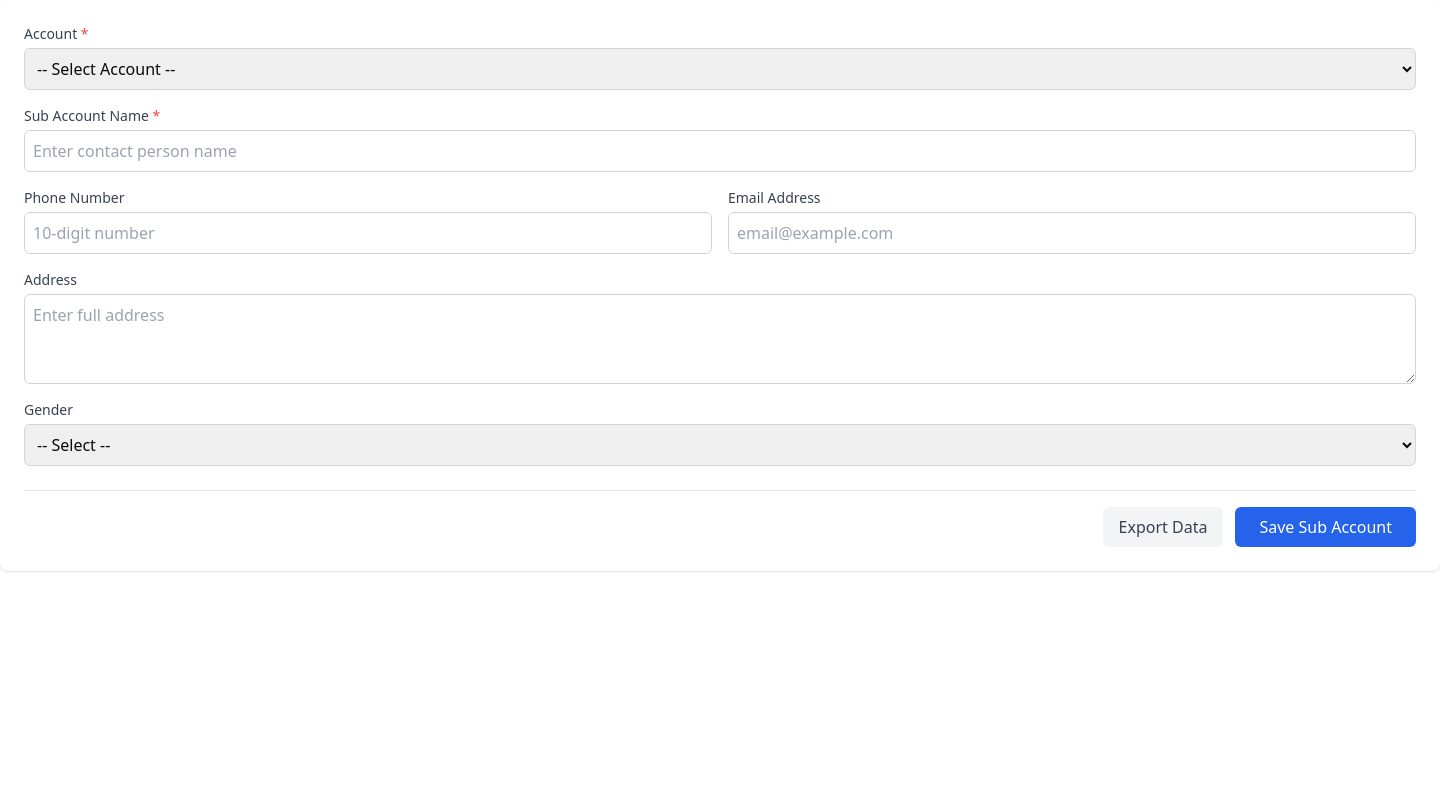
SubAccountForm › Form Submission › disables save button during submission
Select "Customer A" in the dropdown labelled "Account *" at (720, 69), box 24,48 -> 1416,90
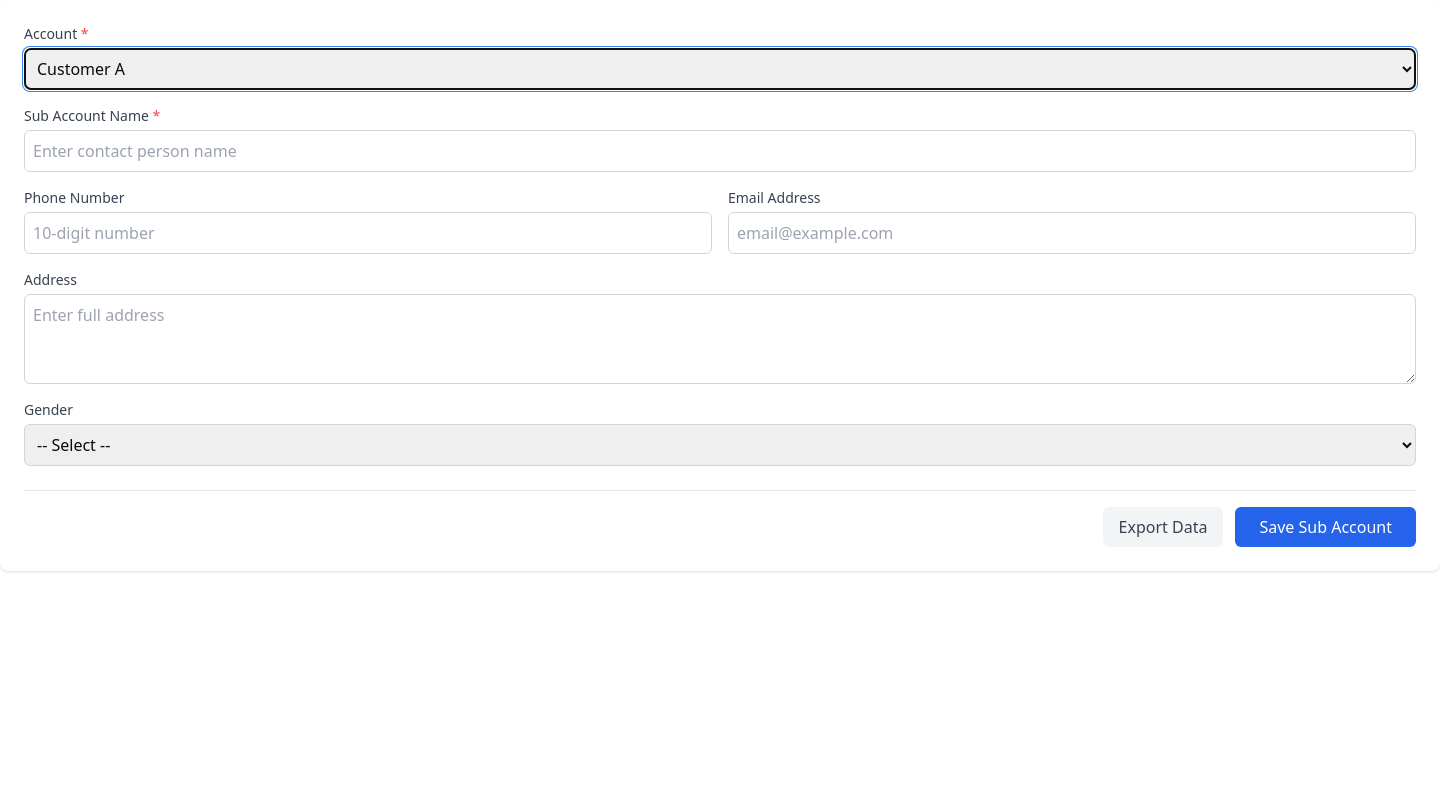
Type "John Doe" into the field with placeholder "Enter contact person name" at (720, 151), box 24,130 -> 1416,172
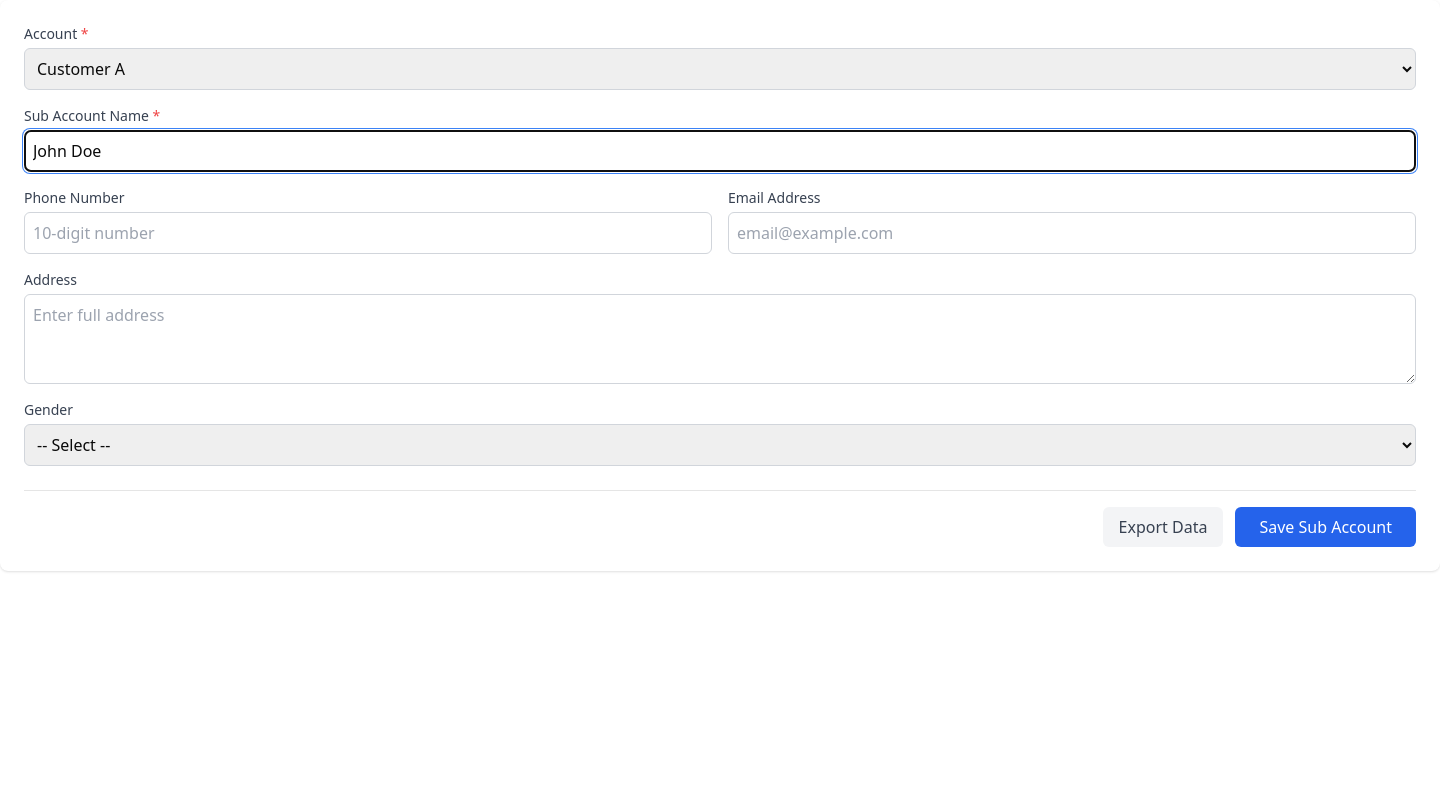
Click the button "Save Sub Account" at (1326, 527), box 1235,507 -> 1416,547
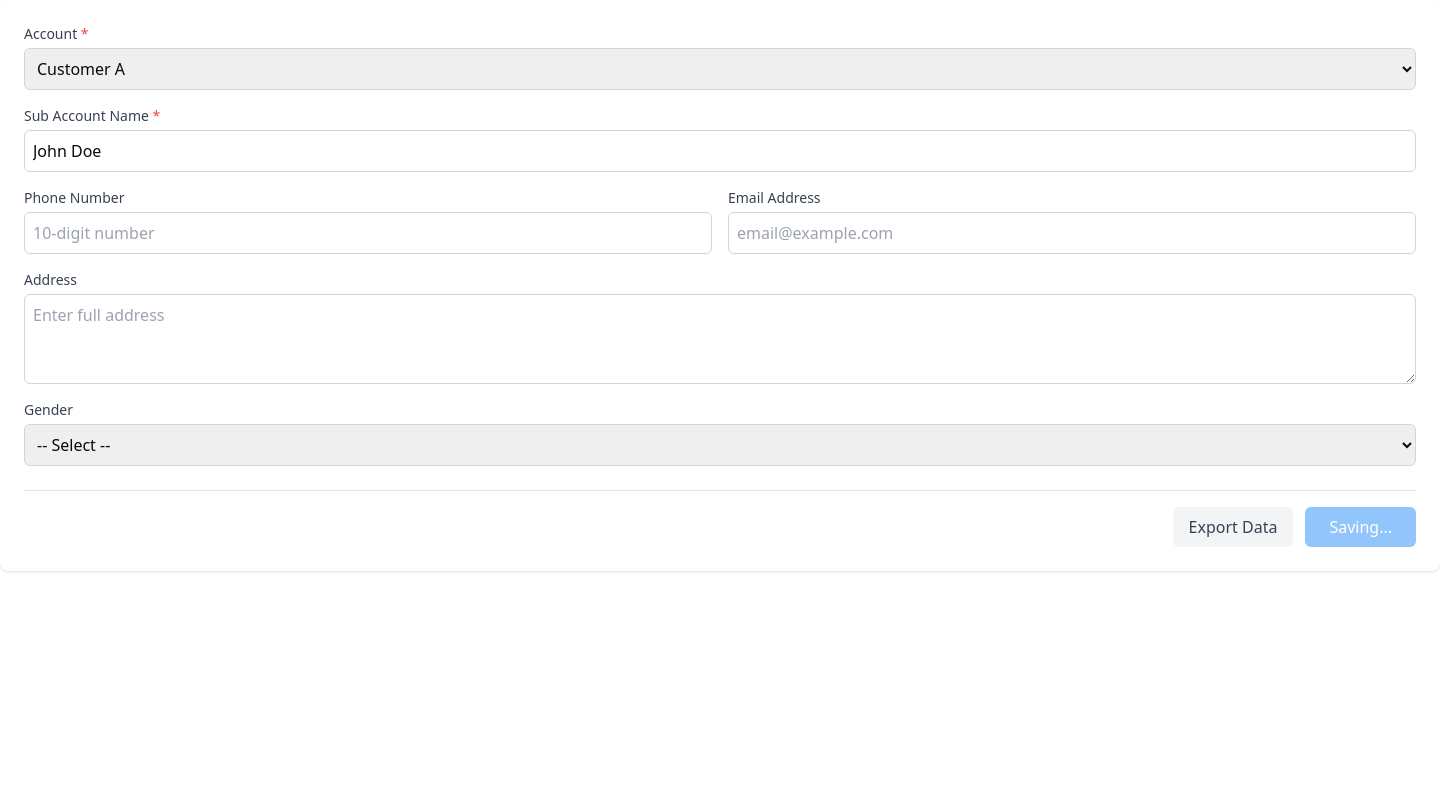
Now the button named "save" is disabled, box 1305,507 -> 1416,547
